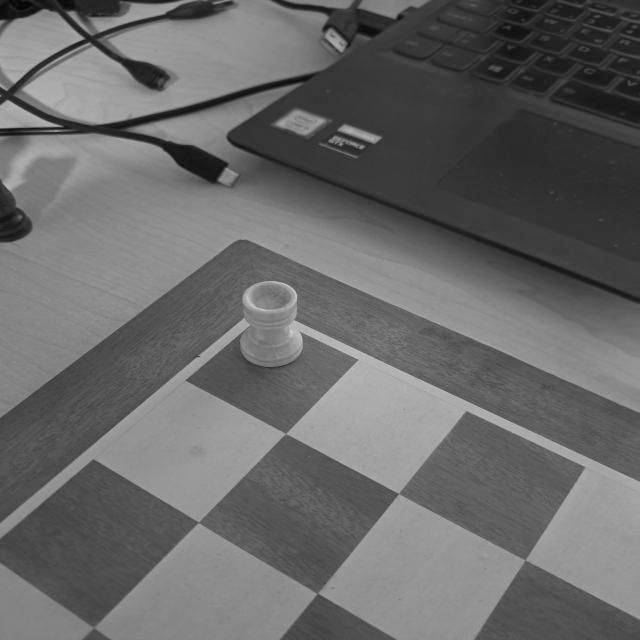chess-table-corners: (199, 284, 327, 356)
